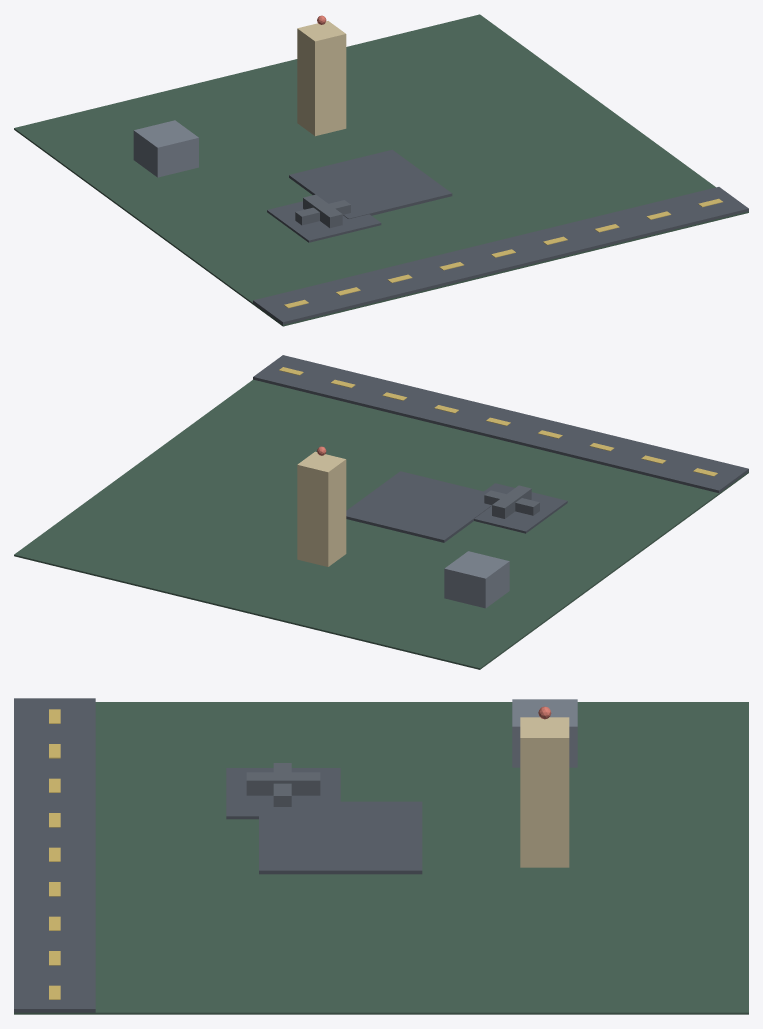
Rendered from stage_04.glb.
The picture shows the model from 3 angles, top to bottom: view 1: azimuth 30°, elevation 25°; view 2: azimuth 150°, elevation 25°; view 3: azimuth 270°, elevation 25°; orthographic projection. The views are drawn at different scales.
Parts seen in each view (by area): view 1: geometry_0; view 2: geometry_0; view 3: geometry_0.
Part boxes in pixels (x1,y1,x2,y2): geometry_0: (14,14,748,326); geometry_0: (14,355,748,669); geometry_0: (14,698,748,1014).
Bounding box in the file's own units: 9 × 2.06 × 9.
